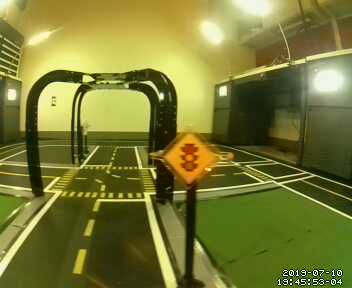Traffic light sign: (166, 130, 217, 183)
